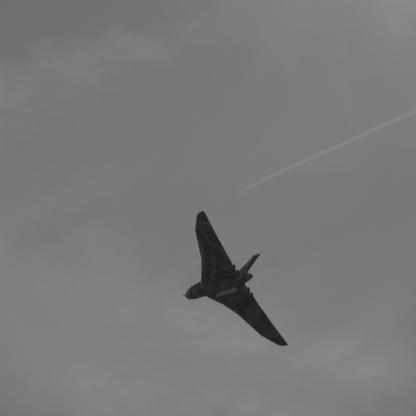Vulcan: (183, 212, 289, 347)
